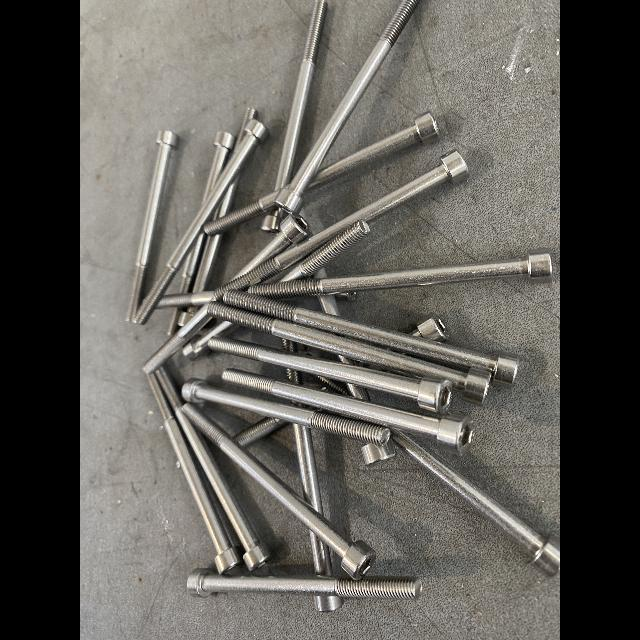Stainless Steel: (214, 148, 470, 301), (181, 404, 375, 580), (273, 0, 420, 213), (206, 300, 491, 406), (223, 290, 518, 387), (133, 120, 270, 325), (154, 365, 271, 571), (395, 430, 560, 575), (223, 367, 475, 456), (147, 374, 245, 574), (208, 336, 453, 416), (249, 248, 554, 299), (184, 379, 391, 445), (306, 112, 438, 193), (123, 130, 178, 322), (275, 0, 327, 192), (188, 568, 421, 600), (230, 213, 312, 281), (281, 221, 370, 282), (143, 301, 213, 375), (205, 189, 281, 237), (294, 423, 323, 514), (202, 131, 235, 204), (183, 321, 233, 358), (178, 230, 206, 292), (191, 236, 221, 293), (234, 418, 286, 446), (232, 109, 258, 155), (308, 528, 332, 575), (411, 313, 449, 342), (156, 291, 216, 308), (361, 439, 396, 466), (212, 185, 237, 221), (312, 594, 343, 612), (317, 294, 340, 316), (345, 383, 372, 401), (261, 209, 280, 233), (177, 308, 199, 326), (167, 308, 179, 334), (334, 294, 358, 302), (312, 270, 325, 278)
